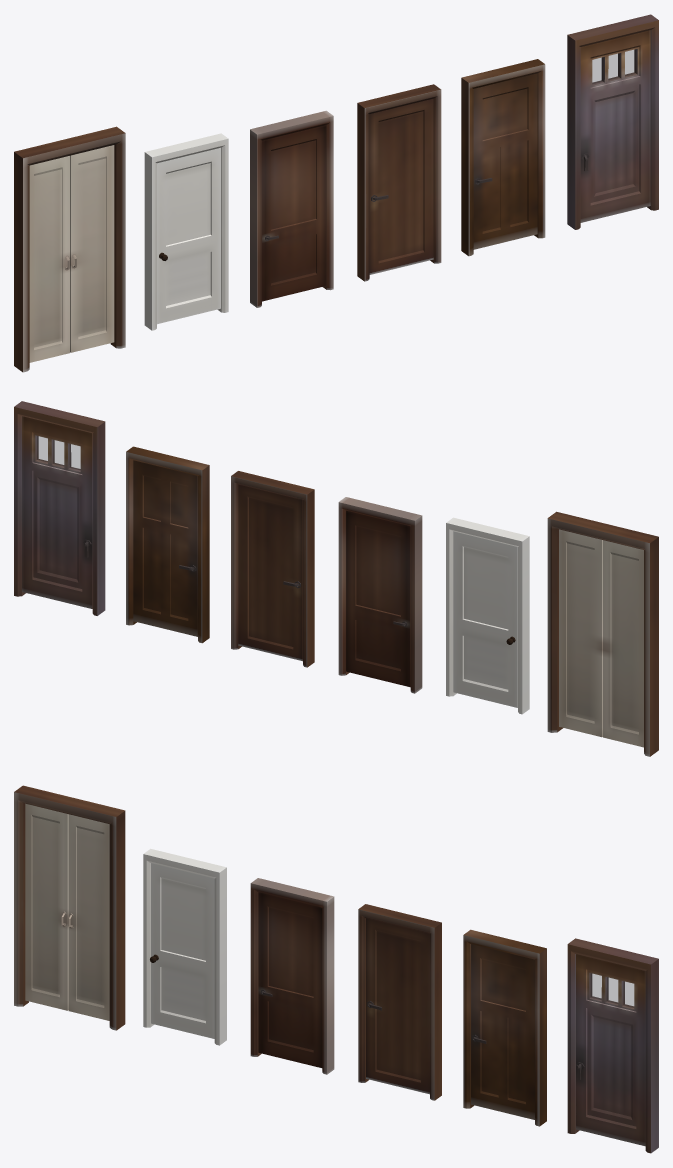
Rendered from doors_essential.glb.
The picture shows the model from 3 angles, top to bottom: view 1: azimuth 30°, elevation 25°; view 2: azimuth 150°, elevation 25°; view 3: azimuth 330°, elevation 25°; orthographic projection.
Visible parts, largest first — view 1: Front Door_006.001, Wooden Door_009.001, Worn Door_004.001, Wooden Door_001.001, Bathroom Door_002.001, Closet Door_001.001, Closet Door_002.001, Closet Doorframe_001.001, Front Doorframe_003.001, Worn Doorframe_004.001, Wooden Doorframe_001.002, Bathroom Doorframe_001.001 (+1 smaller); view 2: Front Door_006.001, Wooden Door_009.001, Bathroom Door_002.001, Worn Door_004.001, Wooden Door_001.001, Closet Door_001.001, Closet Door_002.001, Closet Doorframe_001.001, Front Doorframe_003.001, Wooden Doorframe_009.002, Worn Doorframe_004.001, Bathroom Doorframe_001.001 (+1 smaller); view 3: Front Door_006.001, Wooden Door_009.001, Wooden Door_001.001, Bathroom Door_002.001, Worn Door_004.001, Closet Door_002.001, Closet Door_001.001, Closet Doorframe_001.001, Front Doorframe_003.001, Wooden Doorframe_009.002, Bathroom Doorframe_001.001, Worn Doorframe_004.001 (+1 smaller).
Boxes of the visible parts, box(x1,y1,x2,y2) form: Front Door_006.001: box(580, 30, 650, 222); Wooden Door_009.001: box(262, 125, 326, 301); Worn Door_004.001: box(473, 73, 537, 249); Wooden Door_001.001: box(369, 98, 433, 274); Bathroom Door_002.001: box(157, 147, 220, 324); Closet Door_001.001: box(70, 145, 114, 352); Closet Door_002.001: box(29, 156, 69, 362); Closet Doorframe_001.001: box(14, 126, 125, 372); Front Doorframe_003.001: box(567, 14, 658, 229); Worn Doorframe_004.001: box(461, 59, 545, 256); Wooden Doorframe_001.002: box(357, 84, 441, 281); Bathroom Doorframe_001.001: box(144, 133, 228, 330); Front Door_006.001: box(22, 416, 92, 608); Wooden Door_009.001: box(346, 510, 410, 687); Bathroom Door_002.001: box(453, 531, 517, 707); Worn Door_004.001: box(133, 460, 197, 636); Wooden Door_001.001: box(238, 484, 302, 661); Closet Door_001.001: box(559, 529, 602, 737); Closet Door_002.001: box(603, 540, 643, 747); Closet Doorframe_001.001: box(547, 511, 658, 756); Front Doorframe_003.001: box(14, 401, 105, 615); Wooden Doorframe_009.002: box(338, 497, 422, 693); Worn Doorframe_004.001: box(126, 446, 209, 643); Bathroom Doorframe_001.001: box(446, 517, 529, 714); Front Door_006.001: box(576, 954, 645, 1146); Wooden Door_009.001: box(258, 892, 322, 1067); Wooden Door_001.001: box(366, 918, 429, 1094); Bathroom Door_002.001: box(151, 863, 214, 1038); Worn Door_004.001: box(471, 944, 534, 1119); Closet Door_002.001: box(25, 803, 68, 1010); Closet Door_001.001: box(68, 814, 109, 1020); Closet Doorframe_001.001: box(14, 785, 125, 1030); Front Doorframe_003.001: box(567, 938, 658, 1153); Wooden Doorframe_009.002: box(250, 878, 334, 1074); Bathroom Doorframe_001.001: box(143, 848, 226, 1045); Worn Doorframe_004.001: box(463, 929, 546, 1126).
Size of the model in its own units: 7.46 by 2.4 by 0.2489.
2 materials, 1 textured.
